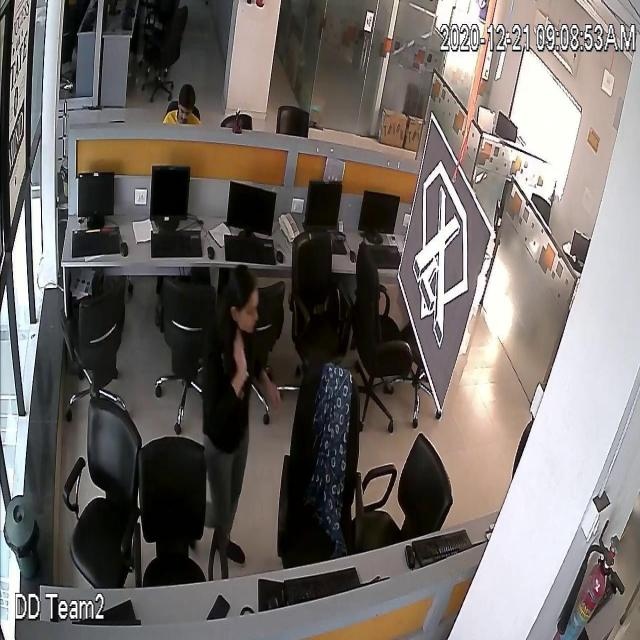chair: (277, 354, 357, 560), (54, 402, 139, 590), (358, 431, 453, 550), (354, 248, 410, 438), (140, 428, 207, 586), (57, 282, 129, 410), (154, 271, 212, 425), (285, 231, 351, 365), (255, 268, 285, 422), (140, 5, 190, 94), (412, 326, 442, 434), (276, 100, 312, 142), (491, 172, 513, 236), (530, 187, 552, 225), (480, 102, 496, 142), (225, 110, 253, 132)
keyboard: (73, 594, 141, 628), (282, 571, 364, 598), (412, 527, 475, 562), (222, 233, 276, 266), (150, 230, 203, 260), (71, 230, 121, 258), (360, 238, 402, 268)
monitor: (227, 179, 276, 239), (145, 163, 192, 223), (358, 184, 400, 240), (76, 171, 117, 222), (306, 182, 342, 228), (569, 225, 590, 261), (498, 105, 518, 142)
person: (205, 263, 259, 571), (162, 81, 204, 126)
phone: (207, 592, 230, 623)
